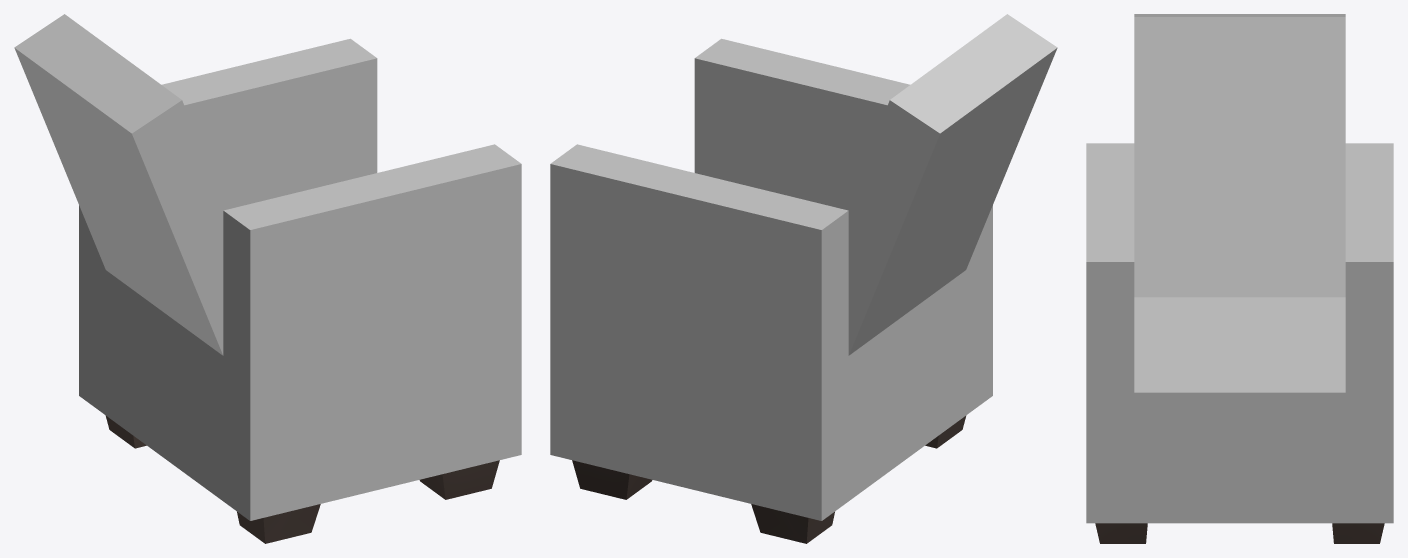
Rendered from ComfyChair.fbx.
3 views of the same model, side by side, from view 1: azimuth 30°, elevation 25°; view 2: azimuth 150°, elevation 25°; view 3: azimuth 270°, elevation 25° (orthographic). The views are drawn at different scales.
Parts seen in each view (by area): view 1: comfy chair; view 2: comfy chair; view 3: comfy chair.
Part boxes in pixels (x1,y1,x2,y2): comfy chair: [14, 14, 521, 543]; comfy chair: [550, 14, 1057, 543]; comfy chair: [1086, 14, 1393, 543].
Size of the model in its own units: 37.74 by 46.22 by 54.2.
